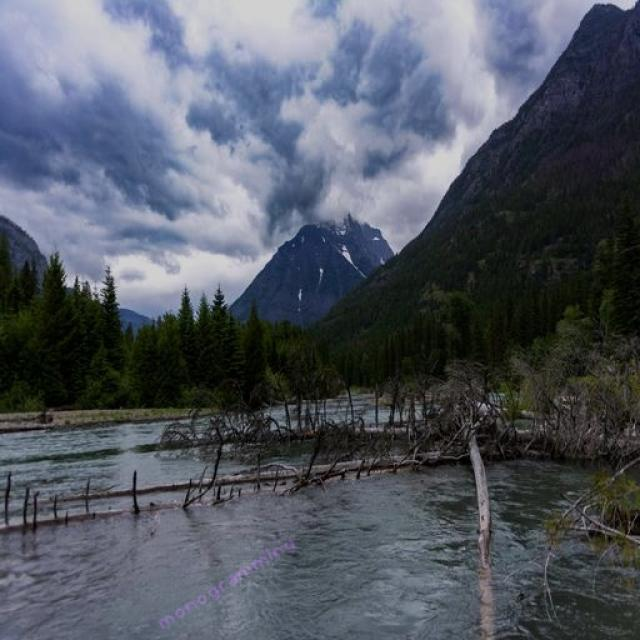watermark: (156, 531, 297, 632)
